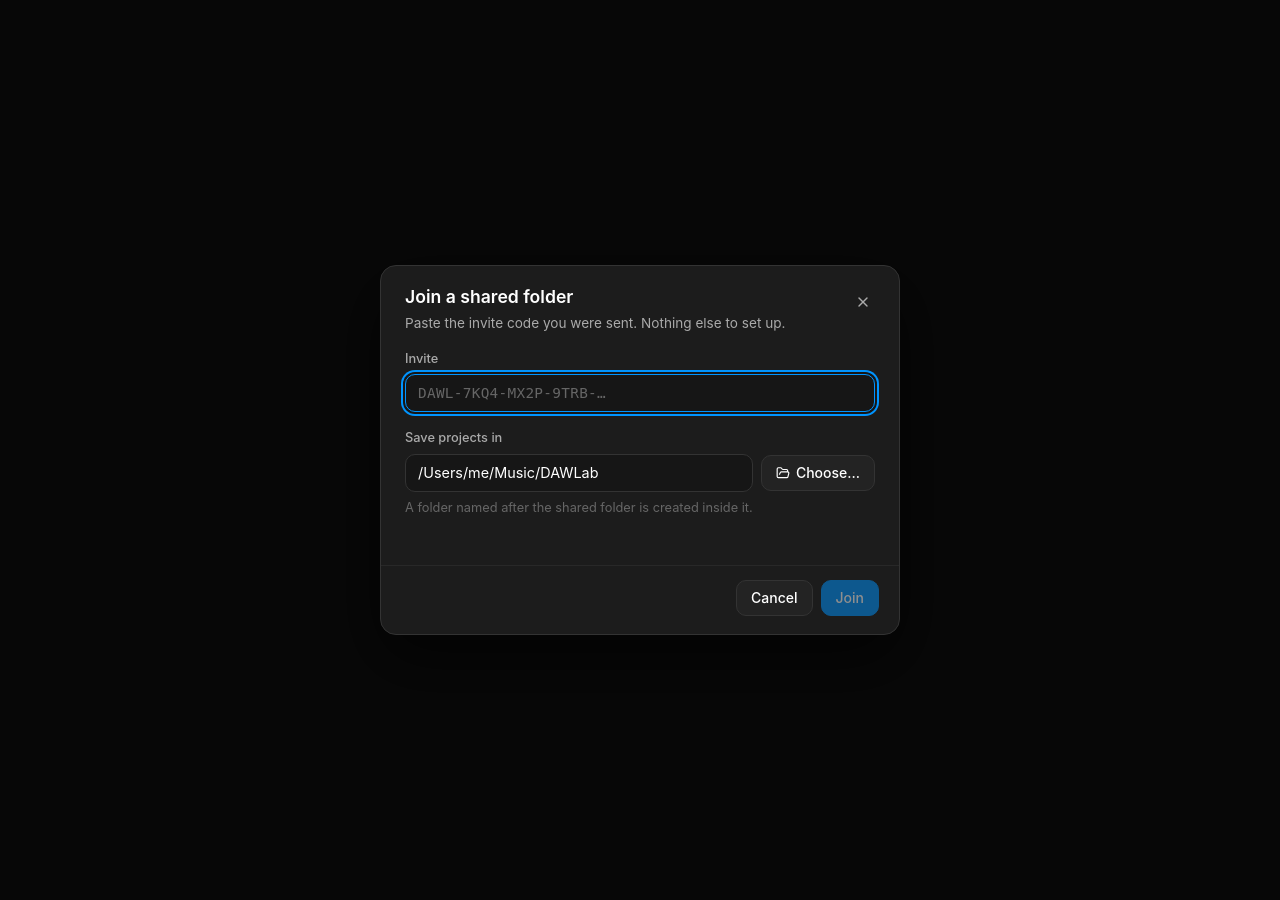
Scenario: JoinFolderDialog › tells you when some projects could not be downloaded, and still joins
This screenshot has width=1280, height=900.
Type "DAWL-7KQ4-MX2P-9TRB" into the field labelled "Invite" at (640, 393), box [405,374,875,412]
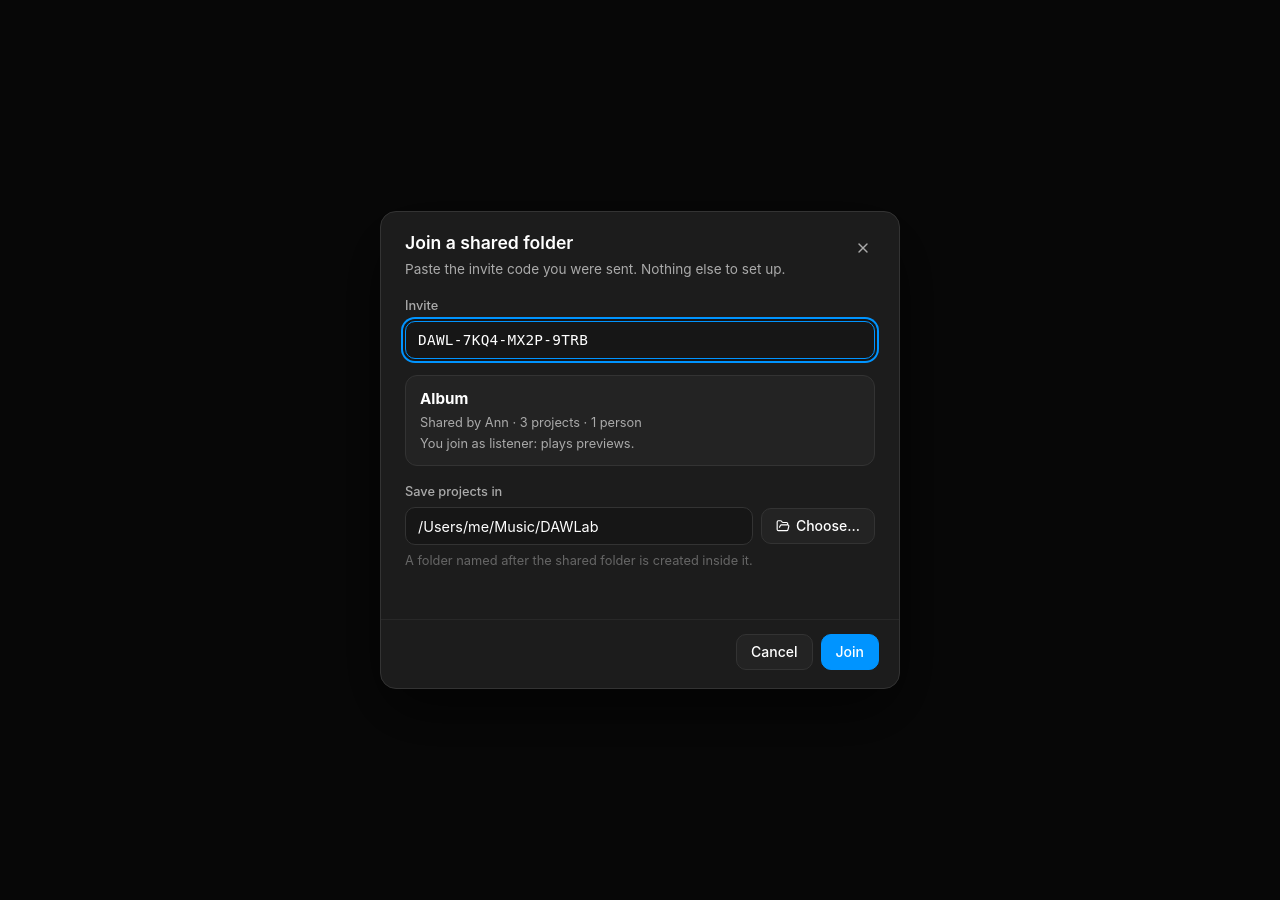
expect the text "Album" is shown: met, box [420,389,468,408]
Click the button "Join" at (850, 652), box [820,634,879,670]
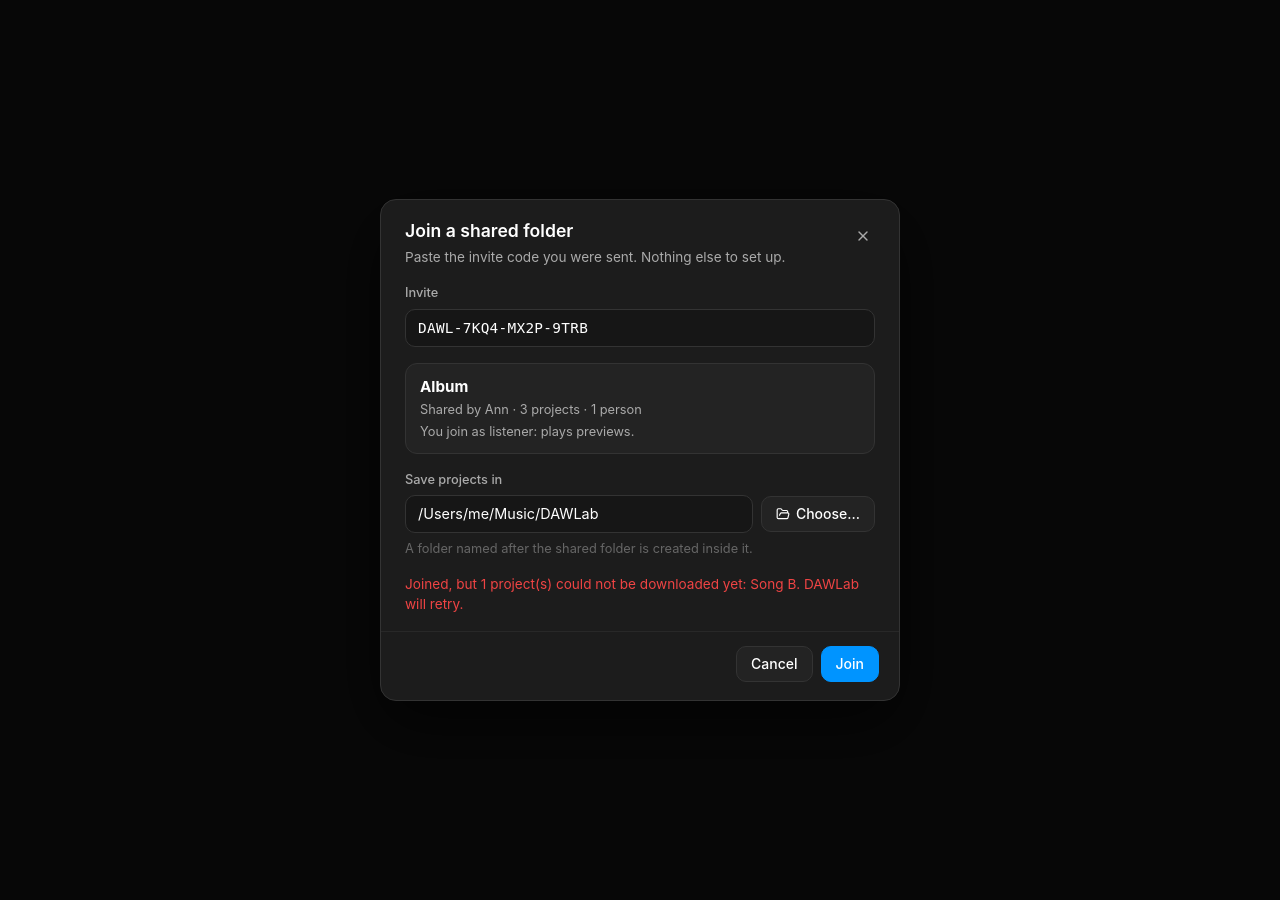
expect the message reads "Joined, but 1 project(s) could not be downloaded yet: Song B. DAWLab will retry.": met, box [405,576,859,612]
